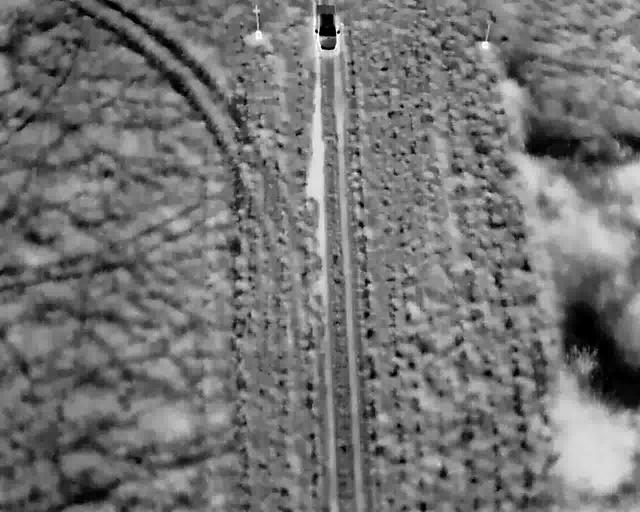car: (312, 3, 341, 51)
